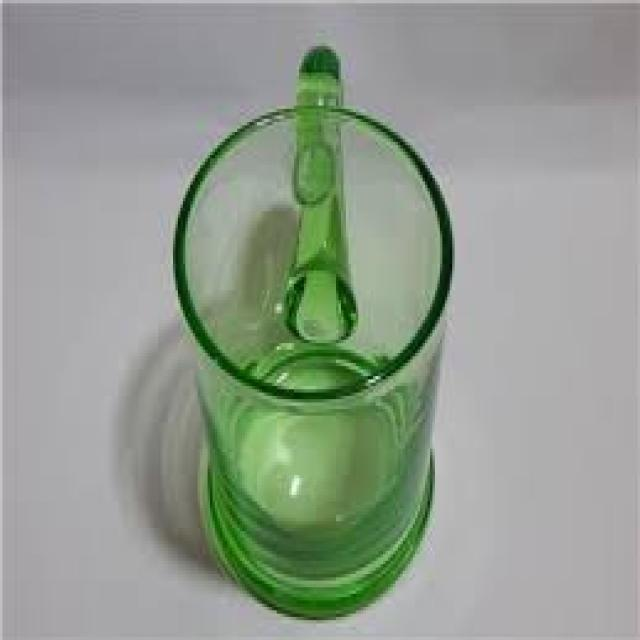glass: (173, 43, 450, 617)
